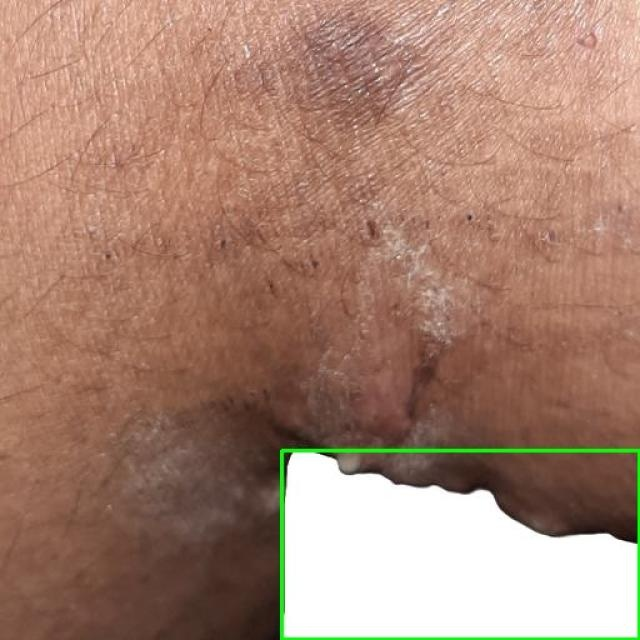Contact Dermatitis: (281, 450, 639, 639)
